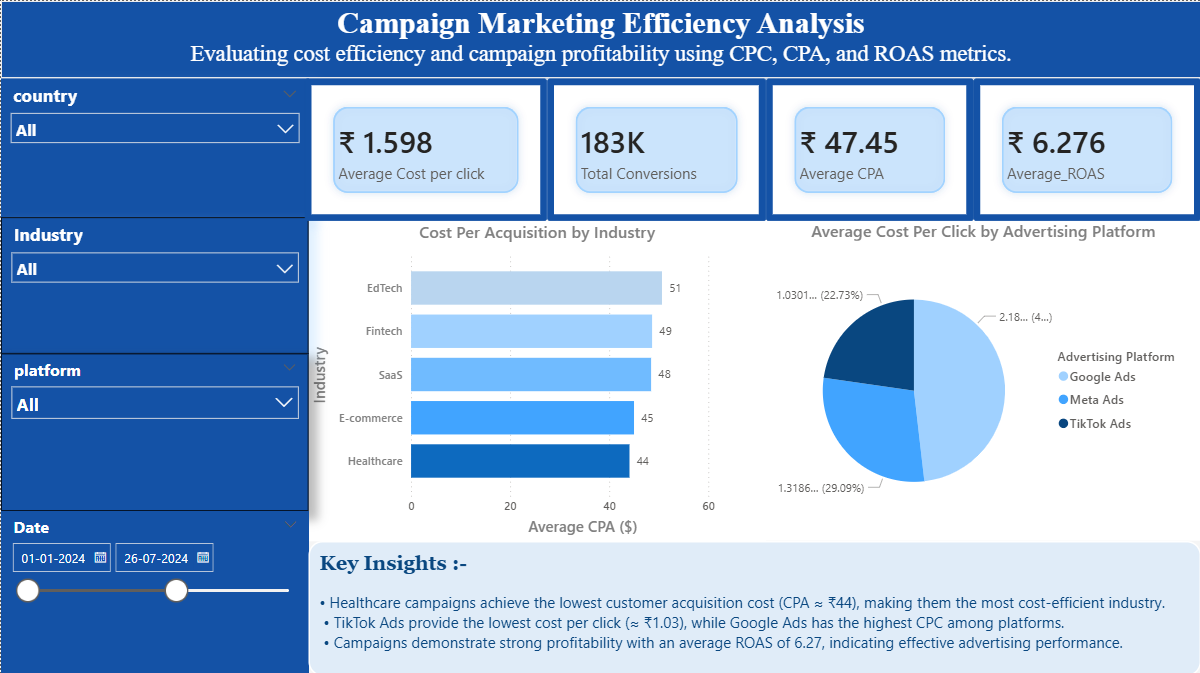

This screenshot's page, from the dashboard's own definition file:
{"tool":"powerbi","page":{"name":"Marketing Efficiency","canvas":[1280,720],"ordinal":2},"visuals":[{"type":"textbox","box":[0,0,1280,82.7],"z":0},{"type":"pieChart","title":"Average Cost Per Click by Advertising Platform","fields":{"Category":["global_ads_performance_dataset.platform"],"Y":["global_ads_performance_dataset.Average_CPC"]},"box":[816,233.3,464,342.7],"z":1000},{"type":"clusteredBarChart","title":"Cost Per Acquisition by Industry","fields":{"Y":["global_ads_performance_dataset.Average_CPA"],"Category":["global_ads_performance_dataset.industry"]},"box":[328,234.7,488,341.3],"z":2000},{"type":"slicer","fields":{"Values":["global_ads_performance_dataset.country"]},"box":[0,82.7,328,148],"z":3000},{"type":"slicer","fields":{"Values":["global_ads_performance_dataset.industry"]},"box":[0,230.7,328,145.3],"z":4000},{"type":"slicer","fields":{"Values":["global_ads_performance_dataset.platform"]},"box":[0,376,328,168],"z":5000},{"type":"slicer","fields":{"Values":["global_ads_performance_dataset.date"]},"box":[0,544,328,176],"z":6000},{"type":"cardVisual","fields":{"Data":["global_ads_performance_dataset.Average_CPC"]},"box":[324,82.7,258.7,152],"z":7000},{"type":"cardVisual","fields":{"Data":["Sum(global_ads_performance_dataset.conversions)"]},"box":[582.7,82.7,233.3,152],"z":8000},{"type":"cardVisual","fields":{"Data":["global_ads_performance_dataset.Average_CPA"]},"box":[816,82.7,221.3,152],"z":9000},{"type":"cardVisual","fields":{"Data":["global_ads_performance_dataset.Average_ROAS"]},"box":[1037.3,82.7,242.7,152],"z":10000},{"type":"textbox","box":[328,576,952,144],"z":10001}]}

Visuals, with their boxes in screenshot pixels (x1, y1, x2, y2), scaled from the page's 1280x720 canvas onto the 1200x673 screenshot:
textbox: <region>0, 0, 1199, 77</region>
"Average Cost Per Click by Advertising Platform" pieChart: <region>765, 218, 1199, 538</region>
"Cost Per Acquisition by Industry" clusteredBarChart: <region>308, 219, 765, 538</region>
slicer - global_ads_performance_dataset.country: <region>0, 77, 308, 216</region>
slicer - global_ads_performance_dataset.industry: <region>0, 216, 308, 351</region>
slicer - global_ads_performance_dataset.platform: <region>0, 351, 308, 508</region>
slicer - global_ads_performance_dataset.date: <region>0, 508, 308, 672</region>
cardVisual - global_ads_performance_dataset.Average_CPC: <region>304, 77, 546, 219</region>
cardVisual - Sum(global_ads_performance_dataset.conversions): <region>546, 77, 765, 219</region>
cardVisual - global_ads_performance_dataset.Average_CPA: <region>765, 77, 972, 219</region>
cardVisual - global_ads_performance_dataset.Average_ROAS: <region>972, 77, 1199, 219</region>
textbox: <region>308, 538, 1199, 672</region>
